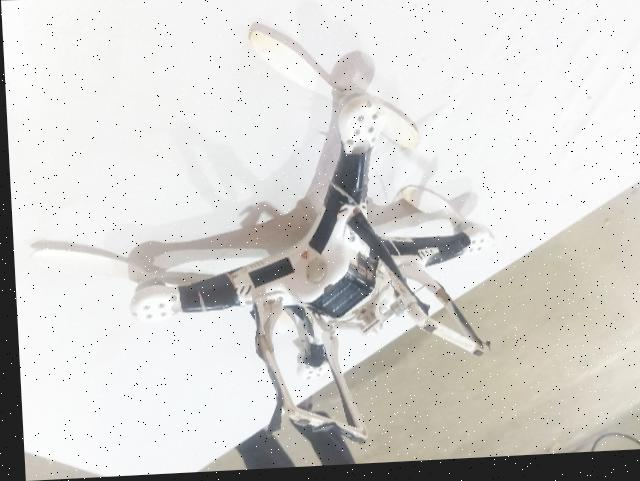drone: (87, 60, 503, 457)
